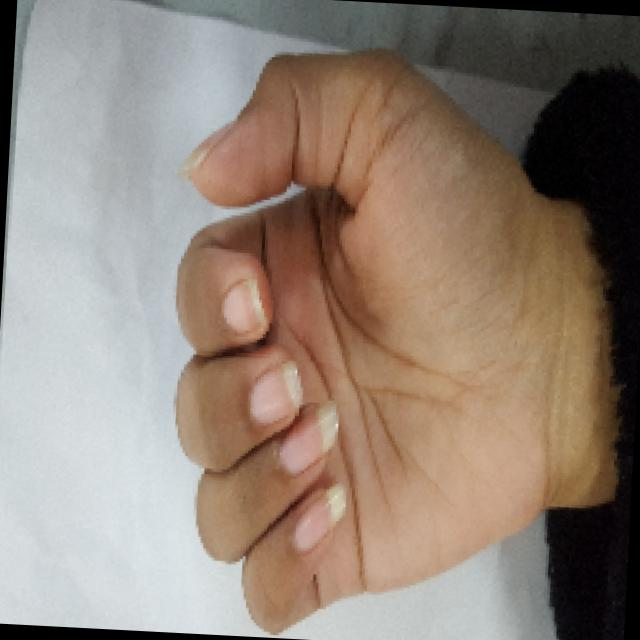Nail: (279, 402, 338, 474), (293, 484, 346, 552), (249, 361, 302, 425), (177, 125, 229, 180), (221, 279, 267, 333)
